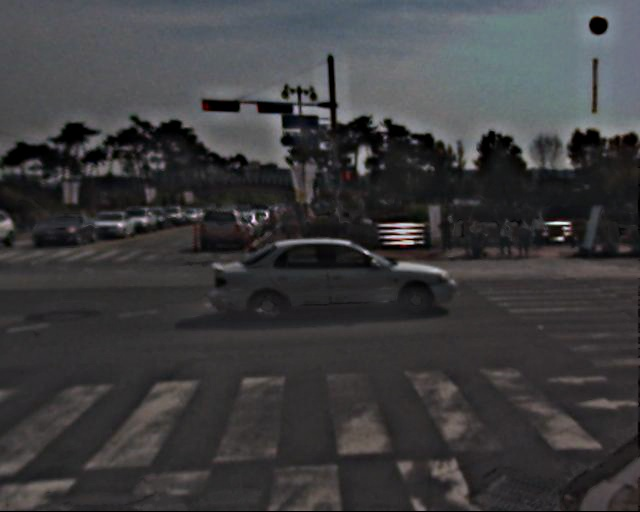person: (273, 204, 315, 247), (328, 205, 348, 253), (520, 213, 539, 260), (441, 208, 460, 255), (467, 210, 485, 255), (496, 217, 514, 262), (533, 211, 550, 252)
